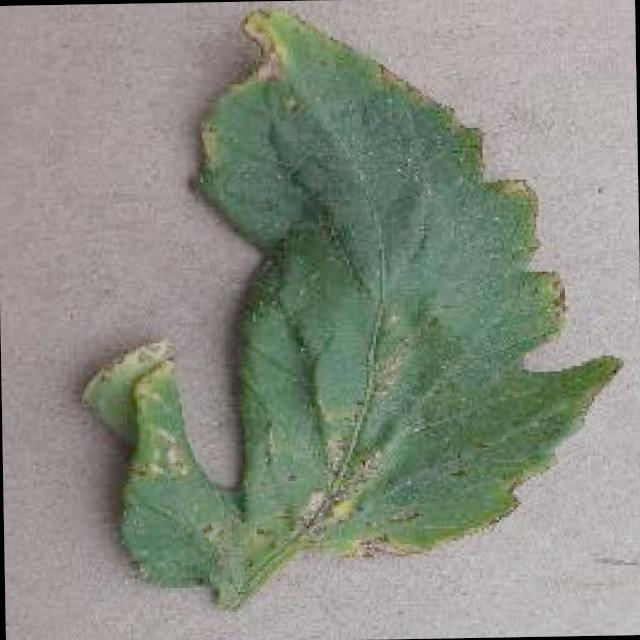Tomato bacterial spot leaf: (74, 0, 626, 595)
